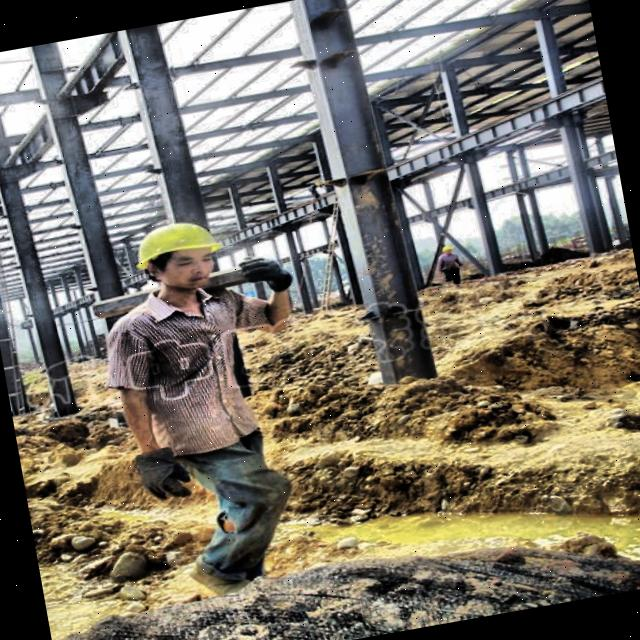helmet: (121, 205, 238, 308)
